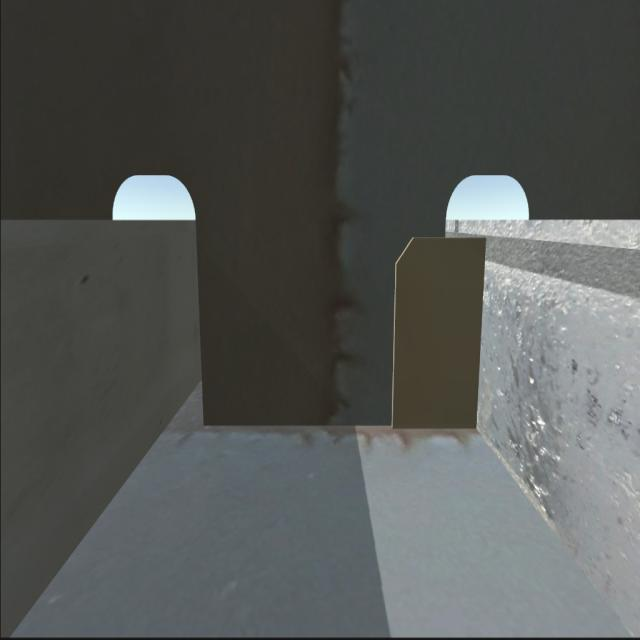fillet_yong_jeop_jang: (198, 422, 479, 437)
longi_yong_jeop_jang: (472, 234, 489, 434)
plate_CP03: (389, 228, 481, 428)
